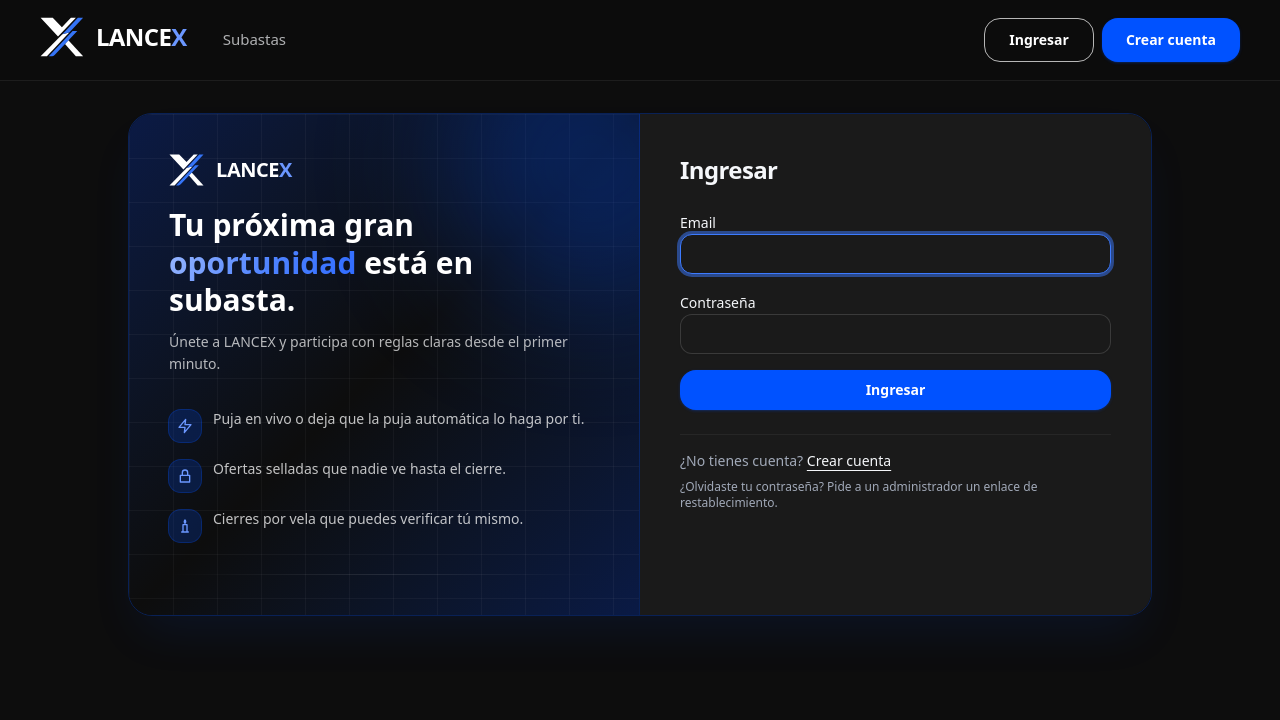
Test: Login con verificación en dos pasos › con un código de respaldo y, si pasó el tiempo, vuelve al paso de la contraseña
Type "ana@demo.lancex.test" into the field labelled "Email" at (896, 254), box [680,234,1111,274]
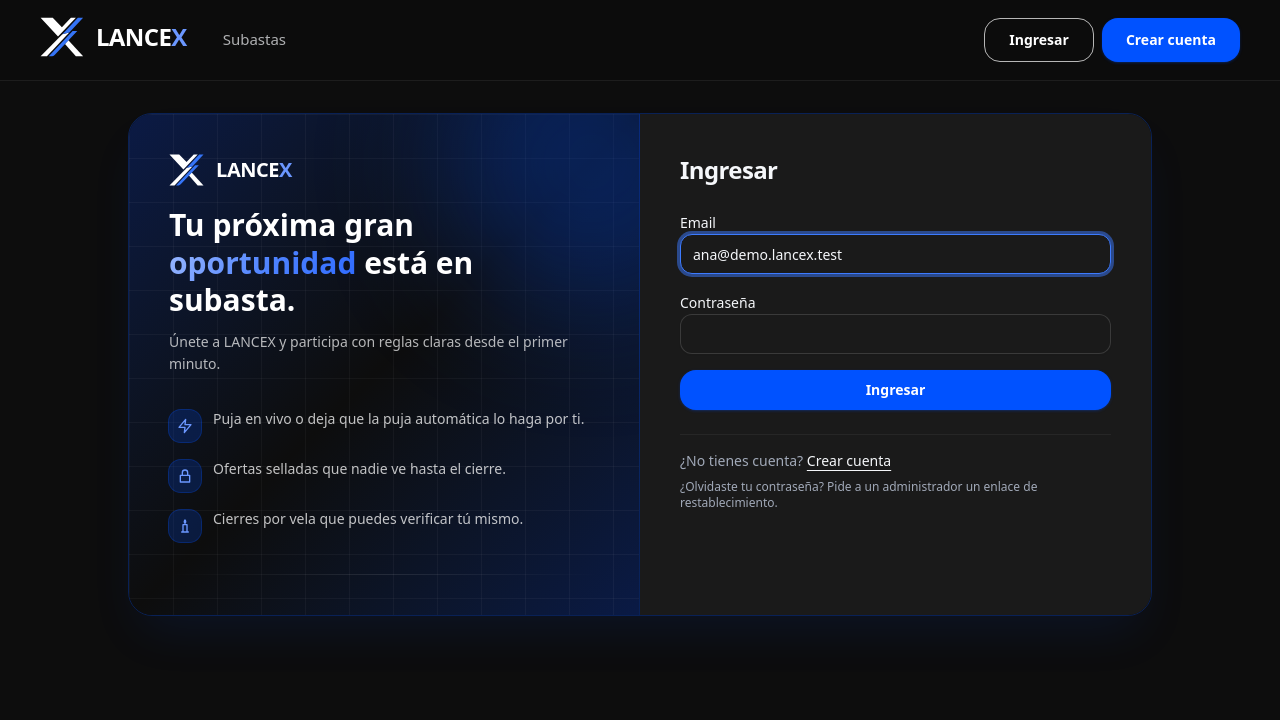
Type "DemoLancex2026!" into the password field labelled "Contraseña" at (896, 334), box [680,314,1111,354]
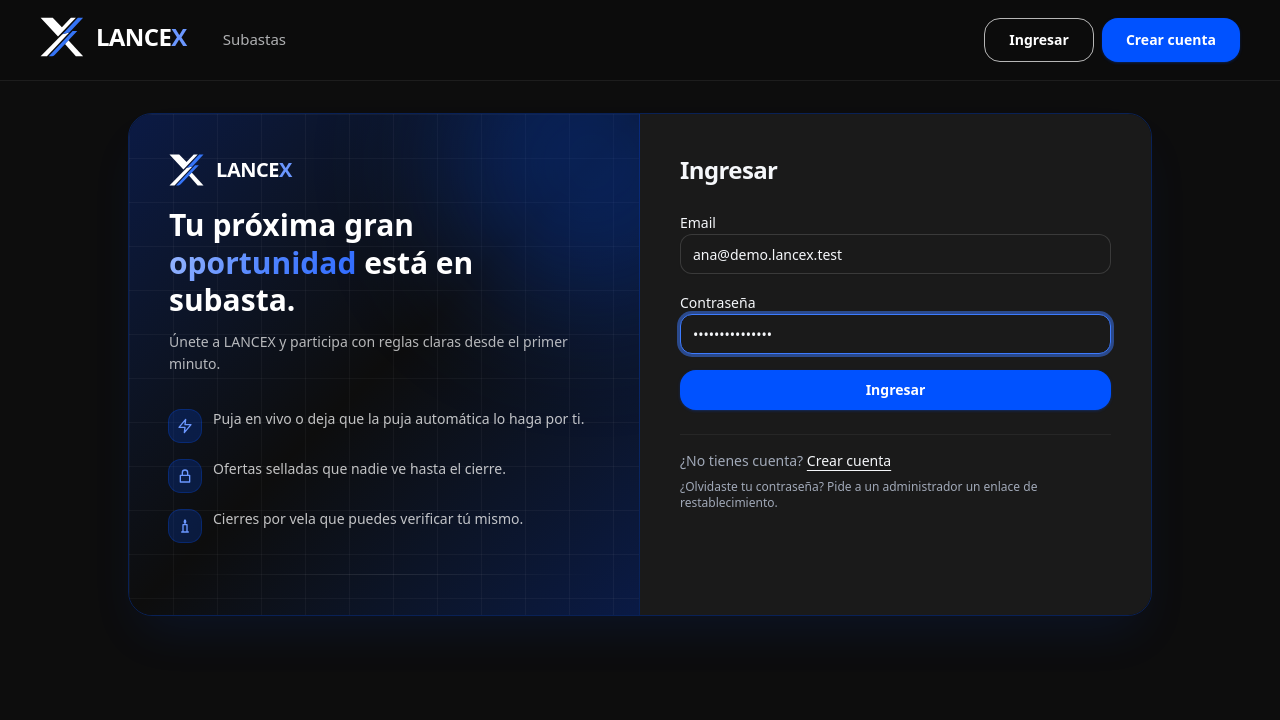
Click the button "Ingresar" at (896, 390), box [680,370,1111,410]
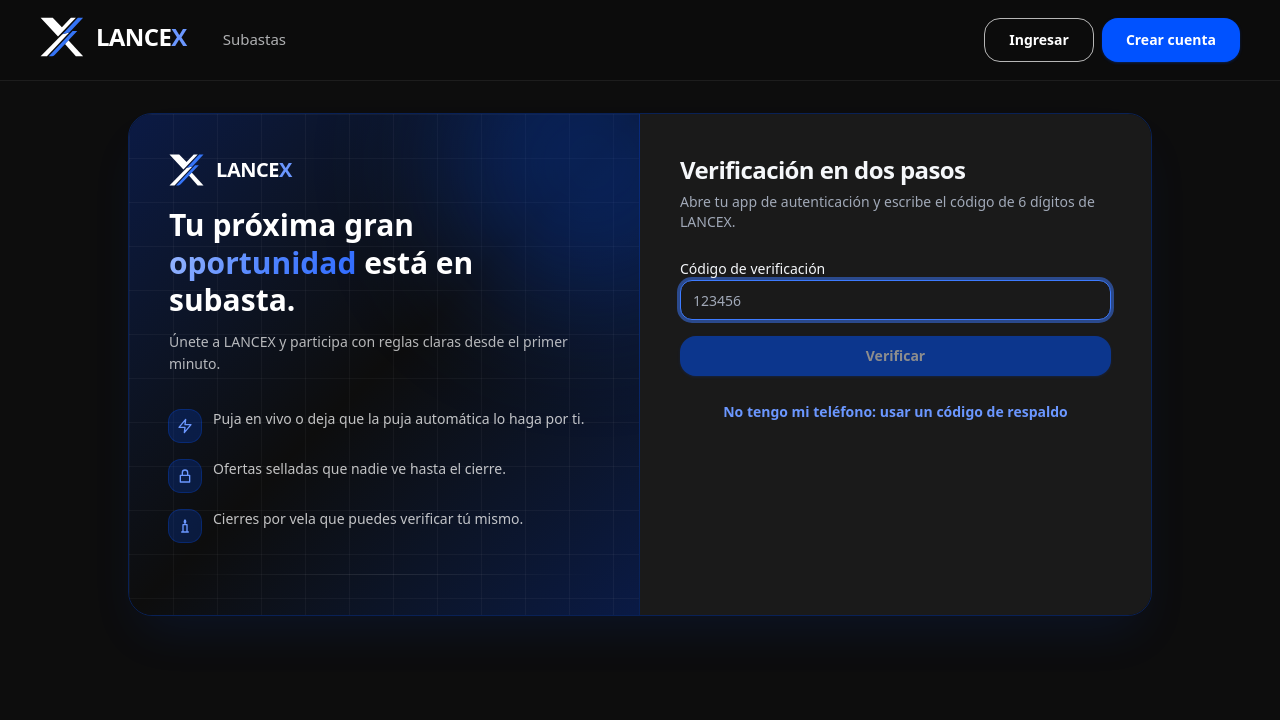
Click the button "No tengo mi teléfono: usar un código de respaldo" at (896, 412), box [680,392,1111,432]
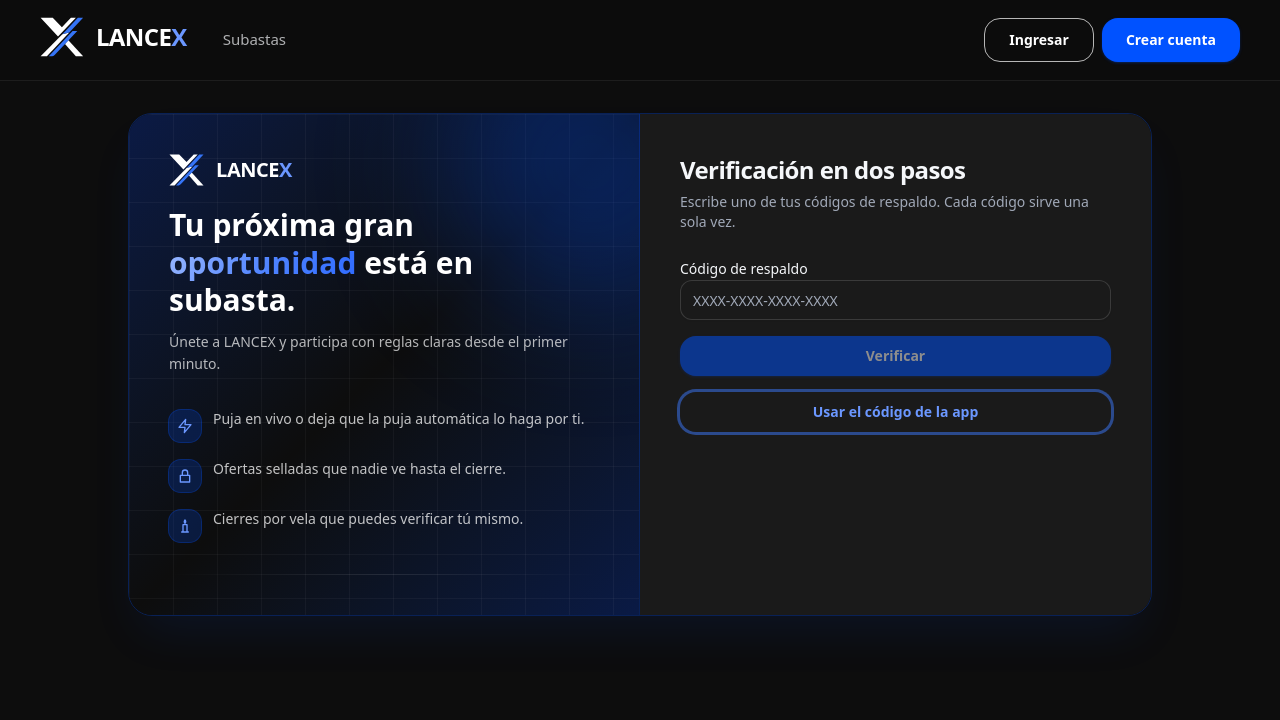
Type "abcd-efgh-jkmn-pqrs" into the field labelled "Código de respaldo" at (896, 300), box [680,280,1111,320]
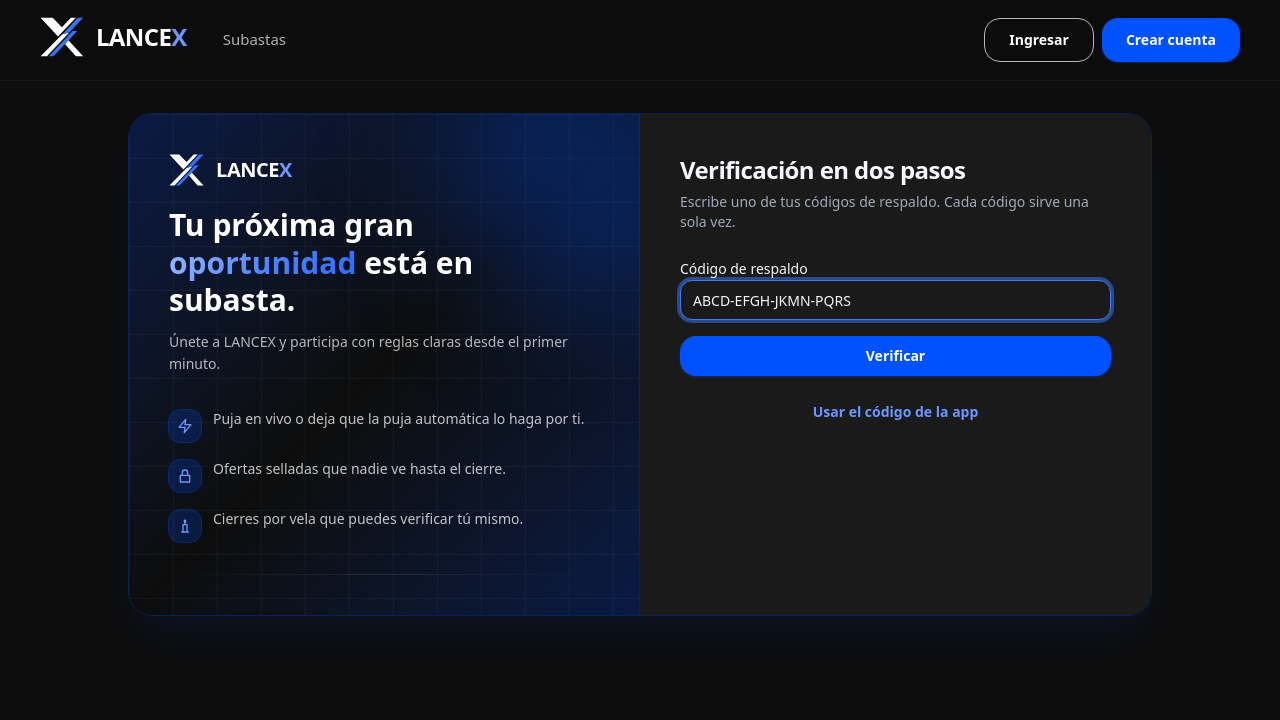
Click the button "Verificar" at (896, 356), box [680,336,1111,376]
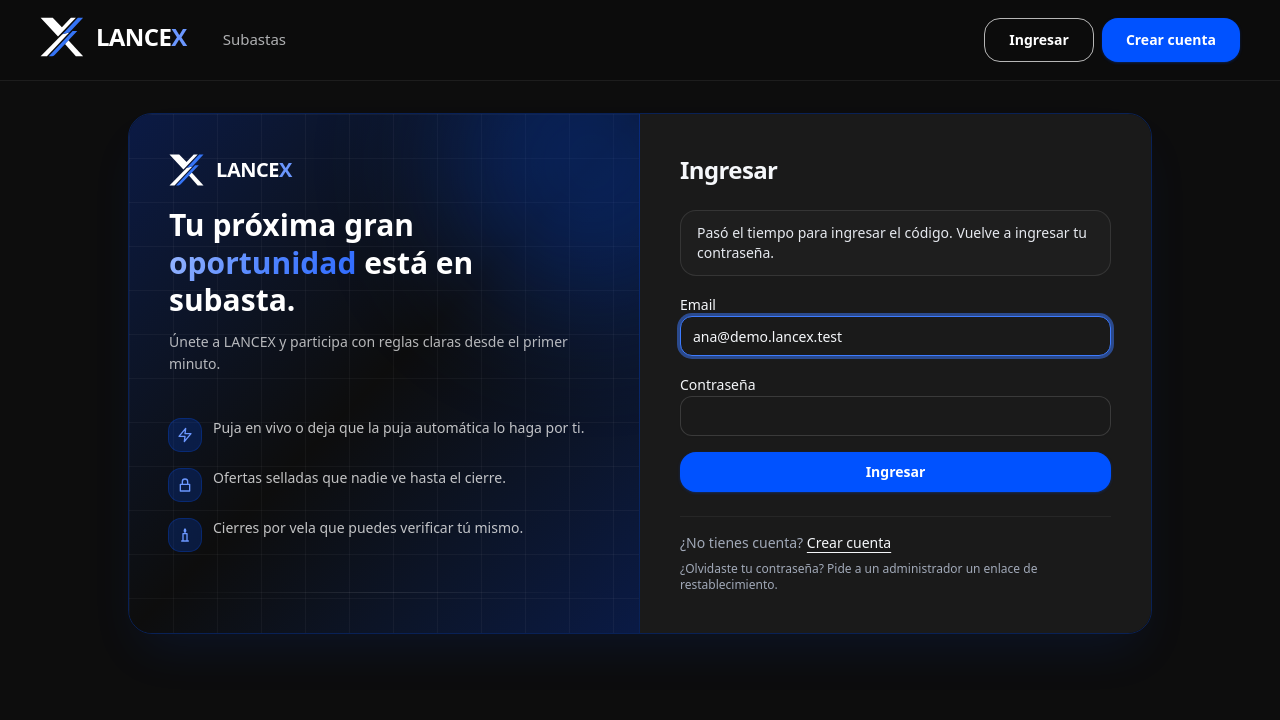
Result: the text "Pasó el tiempo para ingresar el código. Vuelve a ingresar tu contraseña." is shown at [680,210,1111,276]
Result: the password field labelled "Contraseña" is empty at [680,396,1111,436]
